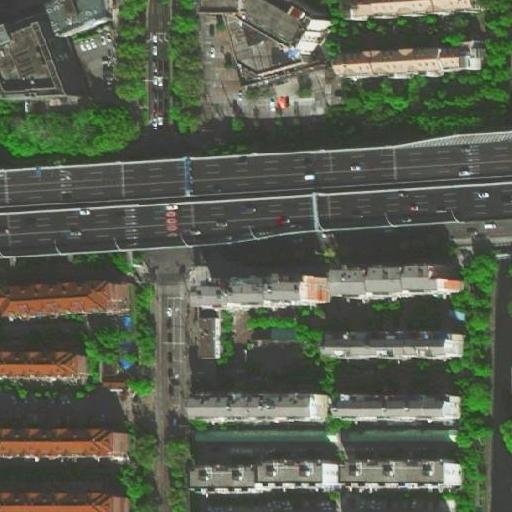building: (0, 38, 88, 102), (2, 280, 131, 314), (191, 275, 327, 307), (194, 465, 339, 494), (339, 49, 484, 78), (1, 426, 131, 457), (190, 388, 323, 416), (328, 333, 465, 360), (342, 267, 460, 298), (341, 460, 458, 488), (341, 391, 457, 416), (10, 491, 130, 512), (371, 1, 489, 22), (0, 351, 84, 379), (196, 422, 330, 439), (345, 425, 456, 442), (195, 309, 222, 361), (206, 499, 309, 512), (100, 369, 145, 398), (447, 306, 471, 324), (273, 325, 300, 337), (121, 317, 135, 335)
